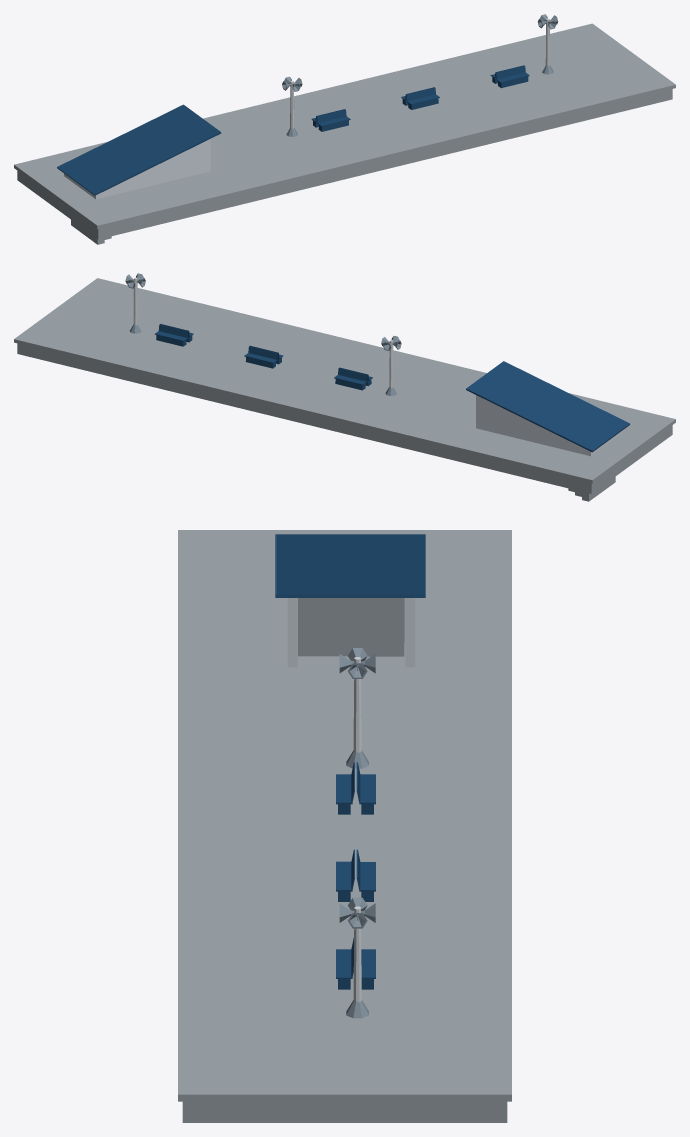
Rendered from PlatformBlue.FBX.
3 views of the same model, one above another, from view 1: azimuth 30°, elevation 25°; view 2: azimuth 150°, elevation 25°; view 3: azimuth 270°, elevation 25° (orthographic). The views are drawn at different scales.
Visible parts, largest first — view 1: Box001, Box011, Box019, Box025, Box026; view 2: Box001, Box011, Box019, Box026, Box025; view 3: Box001, Box011, Box019, Box026, Box025.
Part boxes in pixels (bbox=[...]): Box001: bbox=[14, 23, 675, 244]; Box011: bbox=[57, 104, 221, 199]; Box019: bbox=[311, 65, 529, 131]; Box025: bbox=[282, 76, 302, 136]; Box026: bbox=[538, 14, 558, 74]; Box001: bbox=[14, 278, 675, 501]; Box011: bbox=[466, 361, 629, 456]; Box019: bbox=[154, 324, 372, 390]; Box026: bbox=[125, 273, 145, 333]; Box025: bbox=[381, 336, 401, 395]; Box001: bbox=[178, 530, 511, 1122]; Box011: bbox=[275, 534, 425, 667]; Box019: bbox=[336, 762, 375, 989]; Box026: bbox=[339, 897, 375, 1018]; Box025: bbox=[339, 648, 375, 768].
Bounding box in the file's own units: 40 × 6.78 × 10.
